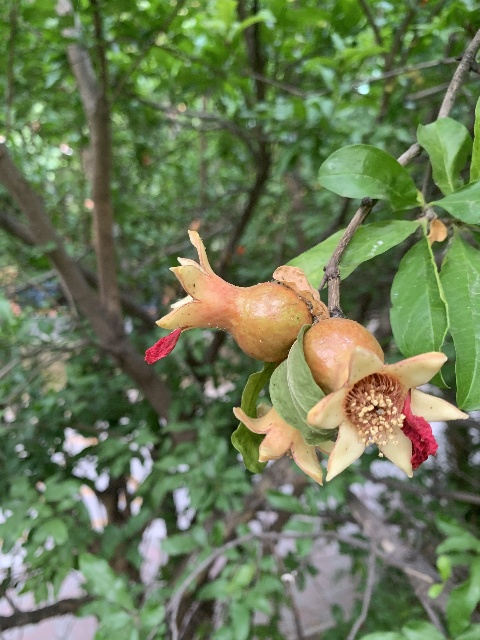early-fruit: (302, 318, 469, 483), (145, 227, 314, 364)
